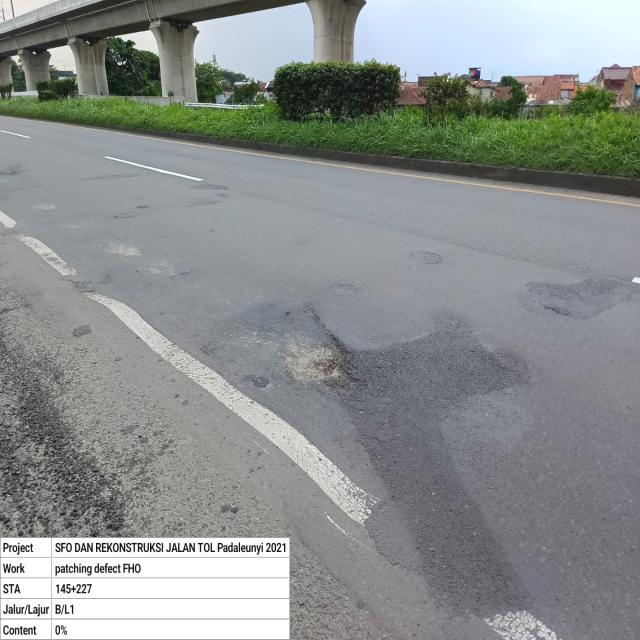Buraco: (271, 330, 370, 400)
